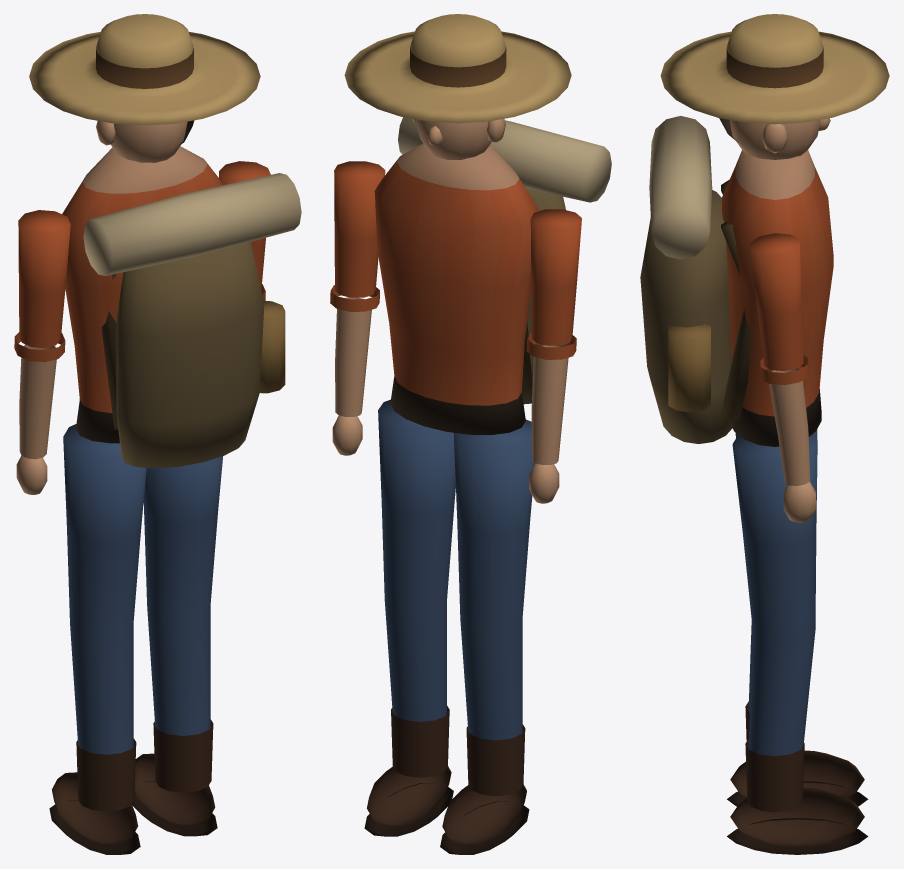
The model's file is hiker.glb.
The picture shows the model from 3 angles, left to right: view 1: azimuth 30°, elevation 25°; view 2: azimuth 150°, elevation 25°; view 3: azimuth 270°, elevation 25°; orthographic projection.
Visible parts, largest first — view 1: Pack, Leg_L, Leg_R, Head, Torso, Arm_L, Arm_R; view 2: Torso, Leg_L, Leg_R, Head, Arm_L, Arm_R, Pack; view 3: Leg_R, Pack, Head, Torso, Arm_R, Leg_L.
Boxes of the visible parts, x1=… form: Pack: x1=83, y1=173, x2=301, y2=468; Leg_L: x1=49, y1=424, x2=146, y2=854; Leg_R: x1=132, y1=456, x2=222, y2=836; Head: x1=29, y1=14, x2=260, y2=162; Torso: x1=62, y1=146, x2=223, y2=443; Arm_L: x1=14, y1=210, x2=70, y2=494; Arm_R: x1=219, y1=161, x2=270, y2=300; Torso: x1=374, y1=143, x2=539, y2=434; Leg_L: x1=440, y1=419, x2=535, y2=854; Leg_R: x1=364, y1=399, x2=455, y2=836; Head: x1=344, y1=14, x2=571, y2=159; Arm_L: x1=526, y1=209, x2=581, y2=503; Arm_R: x1=330, y1=161, x2=385, y2=455; Pack: x1=398, y1=117, x2=611, y2=404; Leg_R: x1=727, y1=434, x2=867, y2=854; Pack: x1=640, y1=116, x2=750, y2=443; Head: x1=660, y1=14, x2=889, y2=159; Torso: x1=722, y1=150, x2=833, y2=446; Arm_R: x1=750, y1=233, x2=815, y2=522; Leg_L: x1=727, y1=429, x2=868, y2=806.
Size of the model in its own units: 0.626 by 1.97 by 0.555.
